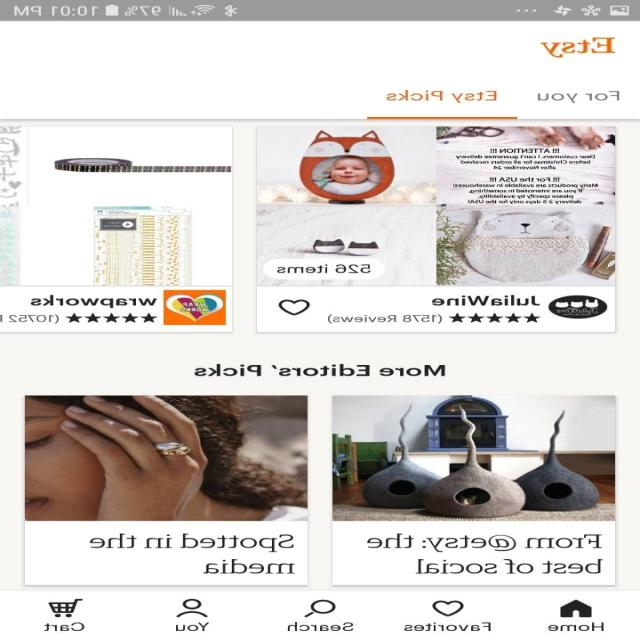Icon: (448, 312, 542, 322), (65, 312, 158, 322), (49, 598, 85, 617), (177, 598, 209, 618), (304, 599, 337, 617), (560, 599, 592, 617), (432, 599, 464, 616), (279, 299, 311, 315)
Image: (256, 126, 616, 286), (1, 126, 233, 286), (332, 394, 616, 520), (25, 395, 308, 521), (164, 290, 226, 324), (548, 295, 608, 319)
Text: (367, 532, 604, 574), (90, 532, 296, 574), (194, 364, 446, 376), (31, 294, 158, 308), (540, 37, 616, 58), (387, 89, 498, 103), (432, 294, 540, 306), (328, 314, 443, 324), (538, 90, 620, 103), (404, 621, 492, 631), (288, 621, 355, 631), (0, 314, 60, 324), (548, 622, 604, 631), (44, 621, 86, 631), (176, 622, 210, 631)
